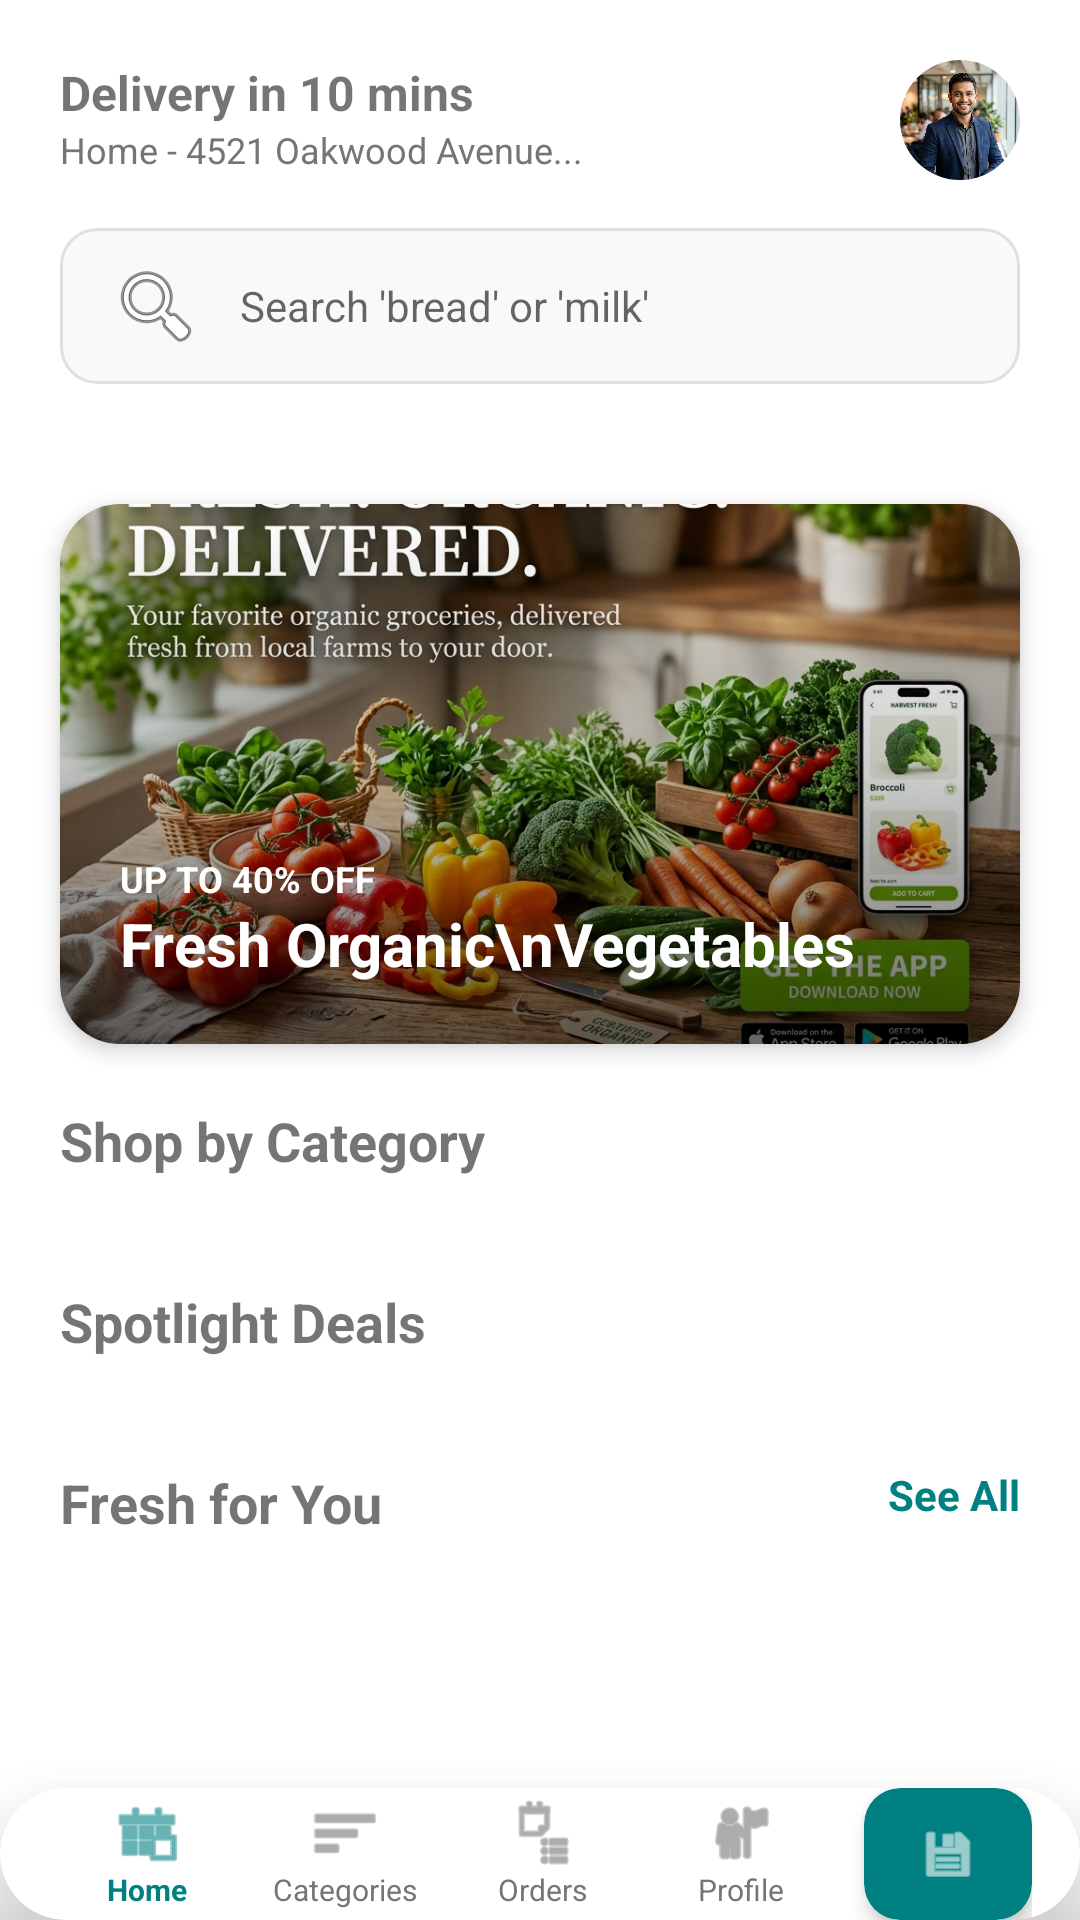

Icon bounding boxes for this 1080px x 1920px phone screenshot, format detection(x1, y1, x2, y2):
agenda: detection(518, 1801, 569, 1865)
save: detection(925, 1831, 971, 1877)
sort by size: detection(314, 1813, 376, 1853)
today: detection(118, 1807, 177, 1862)
